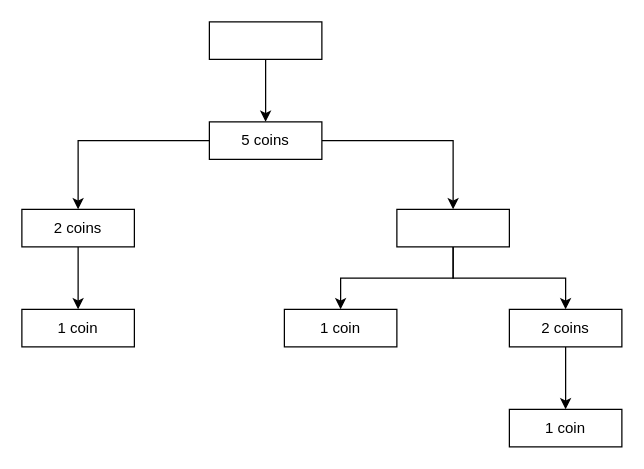
The diagram is 644 pixels wide and 469 high, and some of its shapes have lost their labels. The centre of each missing label's shape, as x and y in pixels:
"10 coins" goes at [265,40].
"3 coins" goes at [452,227].
